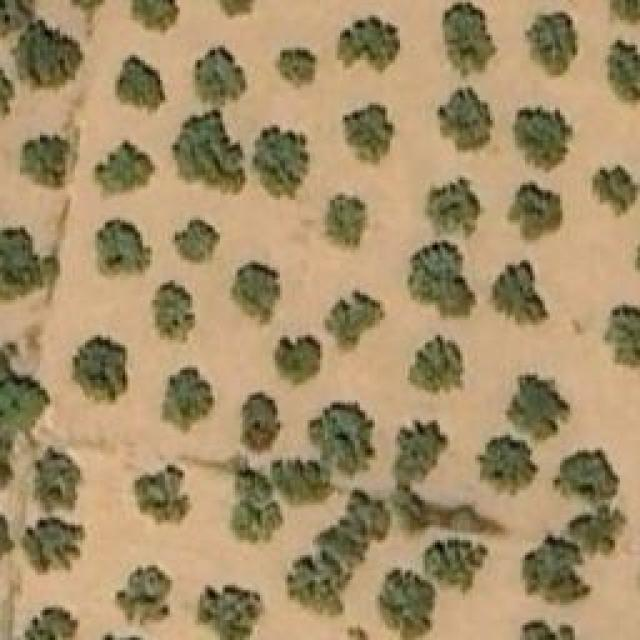Tree: (170, 113, 245, 193), (408, 242, 478, 320), (15, 20, 85, 93), (508, 375, 573, 445), (308, 405, 373, 473), (488, 258, 551, 328), (377, 567, 437, 640), (252, 125, 310, 200), (443, 0, 498, 78), (417, 178, 485, 241), (70, 335, 128, 408), (335, 15, 400, 80), (520, 545, 588, 605), (20, 517, 88, 575), (113, 565, 176, 625), (285, 553, 344, 617), (437, 85, 495, 150), (135, 463, 193, 528), (160, 367, 215, 435), (230, 260, 283, 330), (505, 180, 563, 243), (325, 290, 385, 350), (515, 108, 570, 173), (198, 585, 263, 640), (423, 540, 488, 595), (95, 218, 153, 278), (408, 330, 463, 393), (0, 228, 45, 303), (270, 458, 333, 511), (528, 13, 578, 78), (93, 140, 158, 190), (192, 48, 250, 103), (343, 105, 396, 165), (478, 433, 538, 486), (555, 450, 615, 503), (273, 332, 326, 390), (115, 54, 165, 115), (0, 375, 51, 432), (568, 505, 628, 553), (150, 280, 195, 343), (35, 448, 80, 511), (20, 133, 70, 188), (590, 165, 640, 220), (393, 423, 438, 483), (602, 303, 640, 373), (345, 487, 391, 544), (318, 515, 365, 568), (172, 215, 220, 265), (607, 40, 640, 110), (238, 393, 278, 448), (327, 195, 365, 248), (273, 48, 318, 91), (130, 0, 180, 35), (230, 505, 278, 540), (25, 605, 73, 640), (515, 620, 585, 640), (235, 470, 268, 503), (208, 0, 261, 20), (0, 510, 15, 580), (0, 0, 32, 32), (0, 65, 15, 123), (607, 0, 640, 25), (348, 625, 371, 640)
